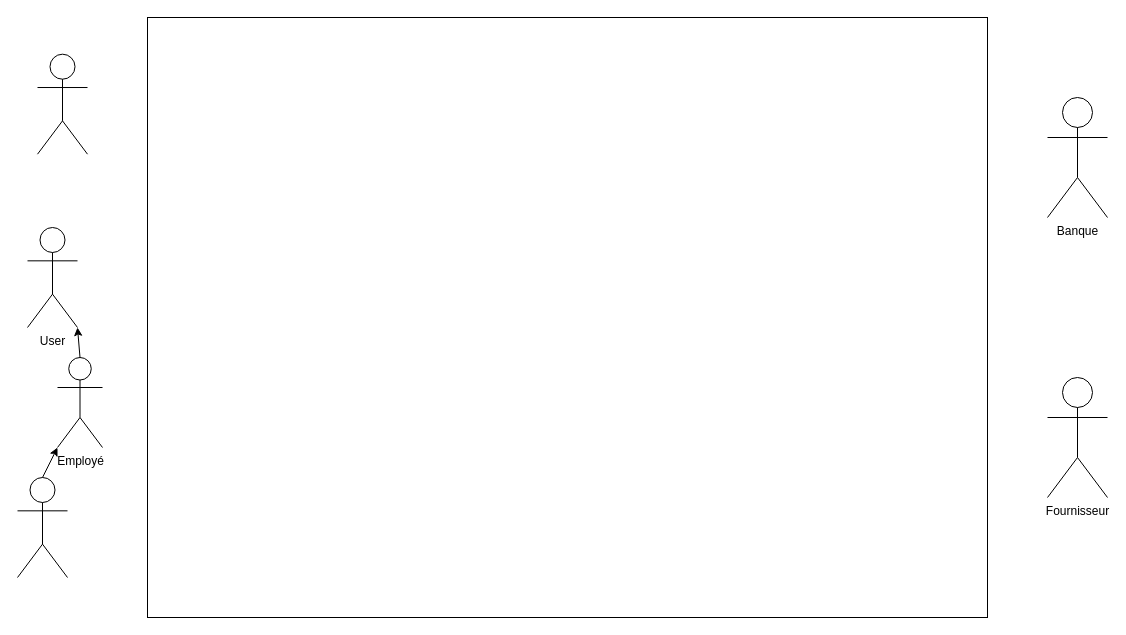
This 1126x635 diagram has some shape labels left out. Each missing label, with the centre of its shape:
Admin: (x=42, y=527)
«Actor» Site e-commerce: (x=62, y=103)
